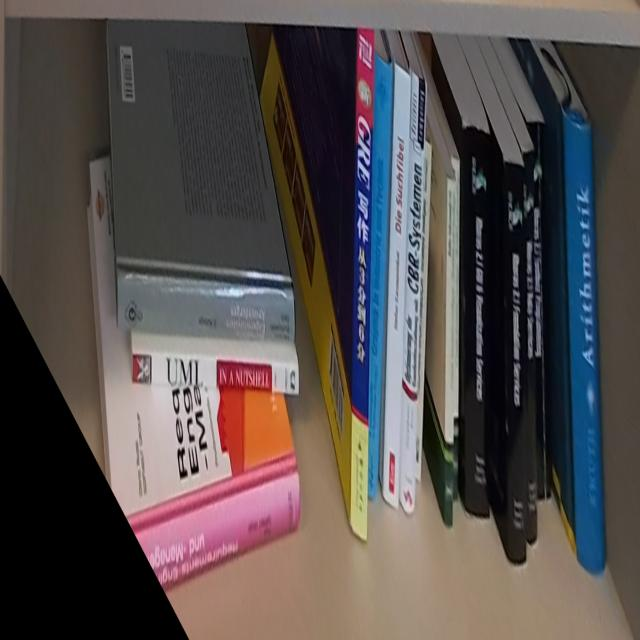Book Spine: (132, 470, 301, 595), (562, 112, 607, 579), (115, 267, 295, 348), (383, 62, 411, 516), (401, 71, 428, 519), (463, 123, 492, 522), (351, 27, 373, 544), (369, 51, 392, 508), (527, 119, 554, 502), (503, 159, 525, 564), (131, 347, 299, 397), (525, 150, 539, 547), (417, 139, 432, 485), (445, 173, 457, 532), (451, 151, 460, 505)
